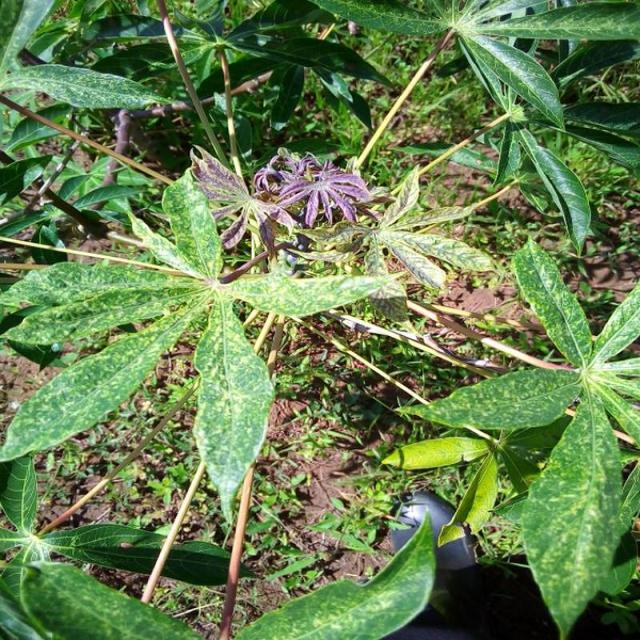cassava leaf: (2, 163, 403, 525), (521, 387, 631, 637), (235, 510, 438, 638), (192, 291, 276, 526)
